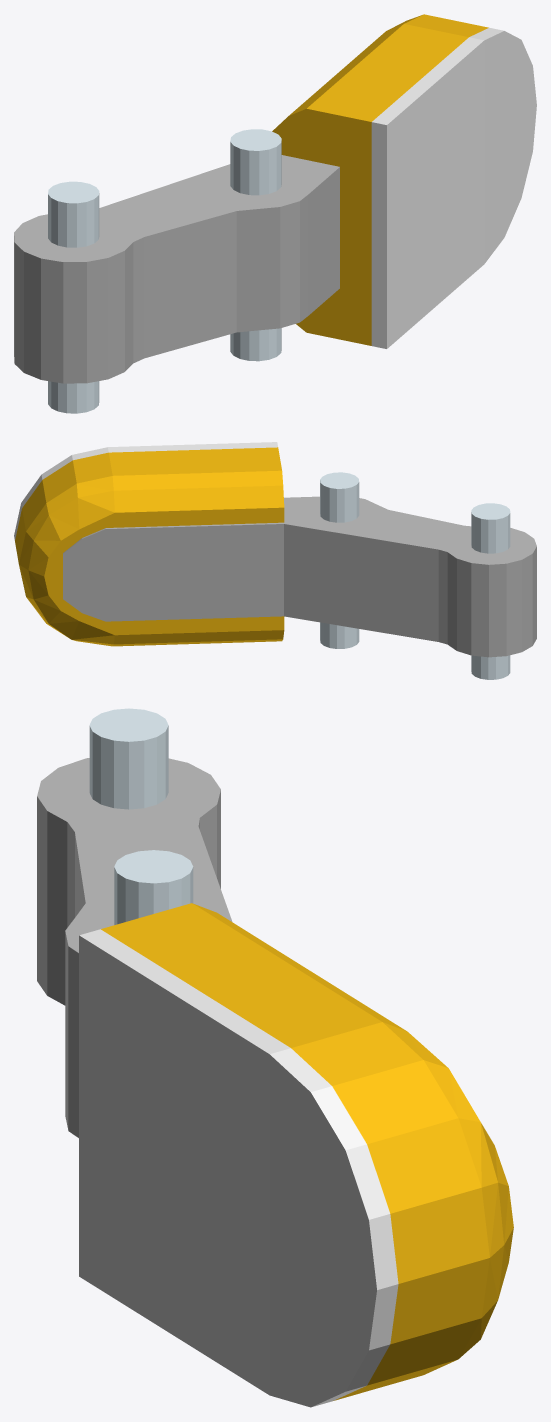
The model's file is rg2_finger_low_poly.dae.
The picture shows the model from 3 angles, top to bottom: view 1: azimuth 30°, elevation 25°; view 2: azimuth 150°, elevation 25°; view 3: azimuth 270°, elevation 25°; orthographic projection. The views are drawn at different scales.
Visible parts, largest first — view 1: Cylinder; view 2: Cylinder; view 3: Cylinder.
Part boxes in pixels (x1,y1,x2,y2): Cylinder: (14,14,536,413); Cylinder: (14,442,536,679); Cylinder: (37,708,513,1407).
Size of the model in its own units: 0.0595 by 0.027 by 0.0213.
